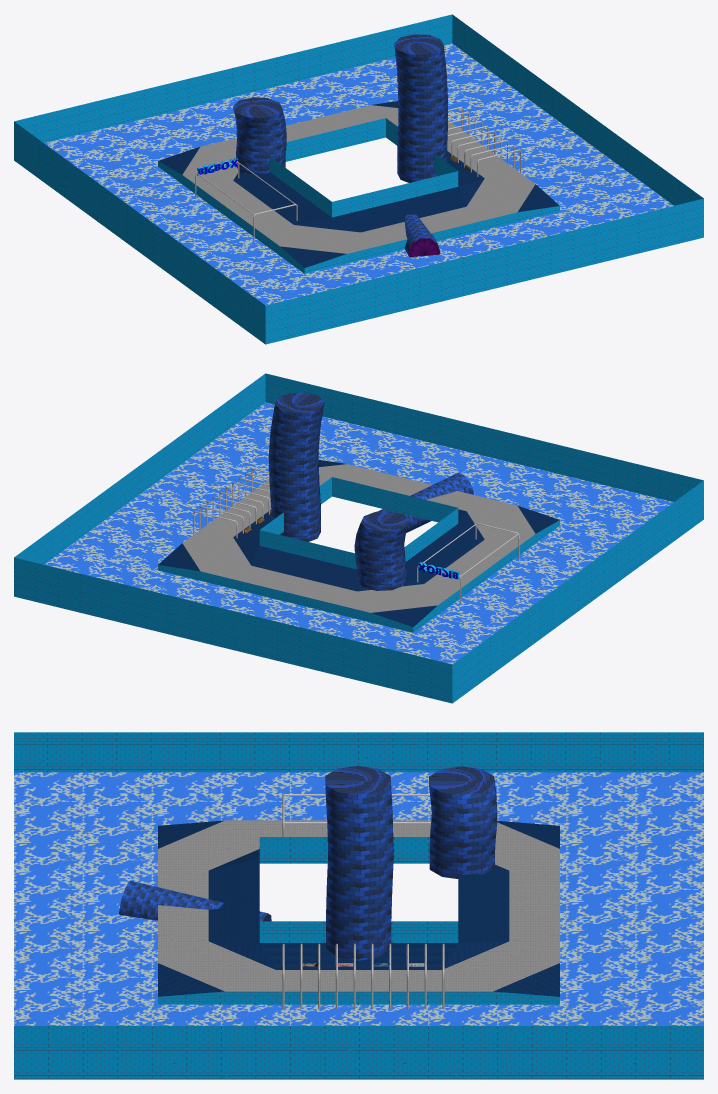
3 renders of one model, top to bottom at view 1: azimuth 30°, elevation 25°; view 2: azimuth 150°, elevation 25°; view 3: azimuth 270°, elevation 25°, orthographic. The views are drawn at different scales.
Visible parts, largest first — view 1: walls1, outofbounds, lol, Cylinder002, Plane001, Cylinder001; view 2: walls1, outofbounds, lol, Cylinder002, Plane001, Cylinder001; view 3: outofbounds, walls1, lol, Cylinder002, Plane001, Cylinder001.
Part boxes in pixels (left/top/right/bottom): walls1: left=14, top=14, right=703, bottom=344; outofbounds: left=44, top=43, right=673, bottom=305; lol: left=182, top=105, right=535, bottom=253; Cylinder002: left=233, top=34, right=448, bottom=255; Plane001: left=158, top=101, right=559, bottom=267; Cylinder001: left=195, top=106, right=521, bottom=241; walls1: left=14, top=373, right=703, bottom=703; outofbounds: left=44, top=402, right=673, bottom=664; lol: left=182, top=464, right=535, bottom=612; Cylinder002: left=268, top=392, right=473, bottom=590; Plane001: left=158, top=460, right=559, bottom=626; Cylinder001: left=193, top=468, right=519, bottom=603; outofbounds: left=14, top=772, right=703, bottom=1025; walls1: left=14, top=732, right=703, bottom=1079; lol: left=158, top=820, right=559, bottom=991; Cylinder002: left=119, top=766, right=497, bottom=960; Plane001: left=158, top=820, right=559, bottom=996; Cylinder001: left=282, top=793, right=444, bottom=1009.
Size of the model in its own units: 117308 by 38622 by 116555.
Materials: 12 (12 with a texture image).
